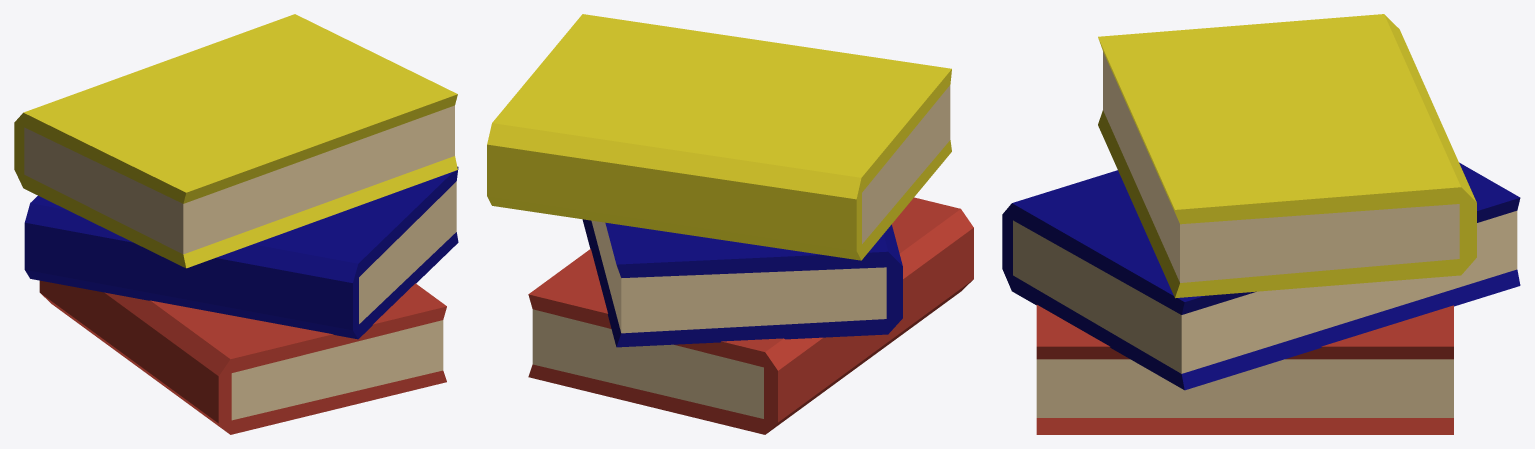
File: book 4.fbx
3 views of the same model, side by side, from view 1: azimuth 30°, elevation 25°; view 2: azimuth 150°, elevation 25°; view 3: azimuth 270°, elevation 25° (orthographic). The views are drawn at different scales.
Visible parts, largest first — view 1: pCube45; view 2: pCube45; view 3: pCube45.
Boxes of the visible parts, box(x1,y1,x2,y2) form: pCube45: box(14, 14, 458, 434); pCube45: box(487, 14, 973, 434); pCube45: box(1002, 14, 1520, 434).
Size of the model in its own units: 8.15 by 4.81 by 8.53.
